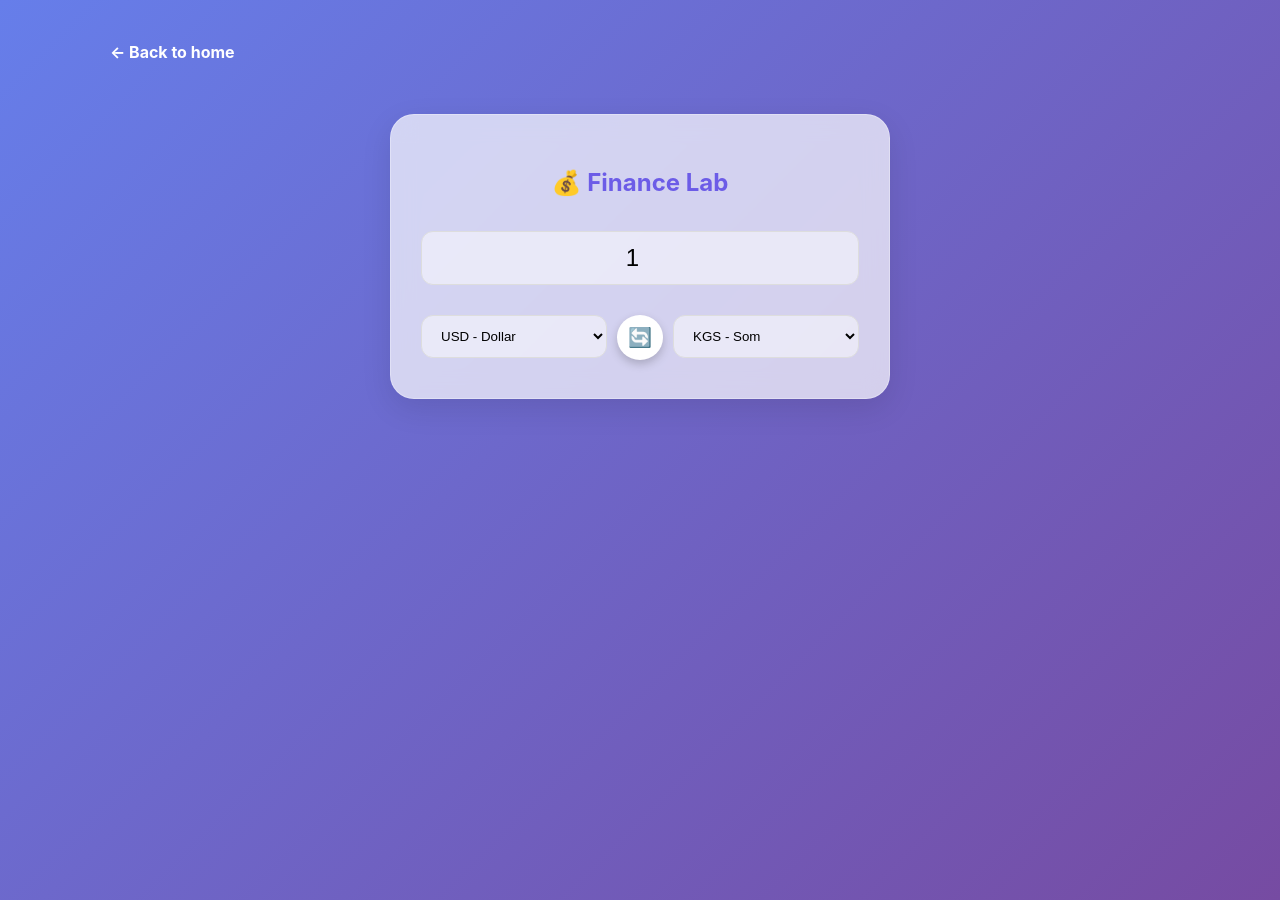
CurrencyConverter Component › updates the converted amount when the input changes
The image size is (1280, 900).
Replace the text in the number field with "10" at x=640, y=258, box [421,231,859,285]
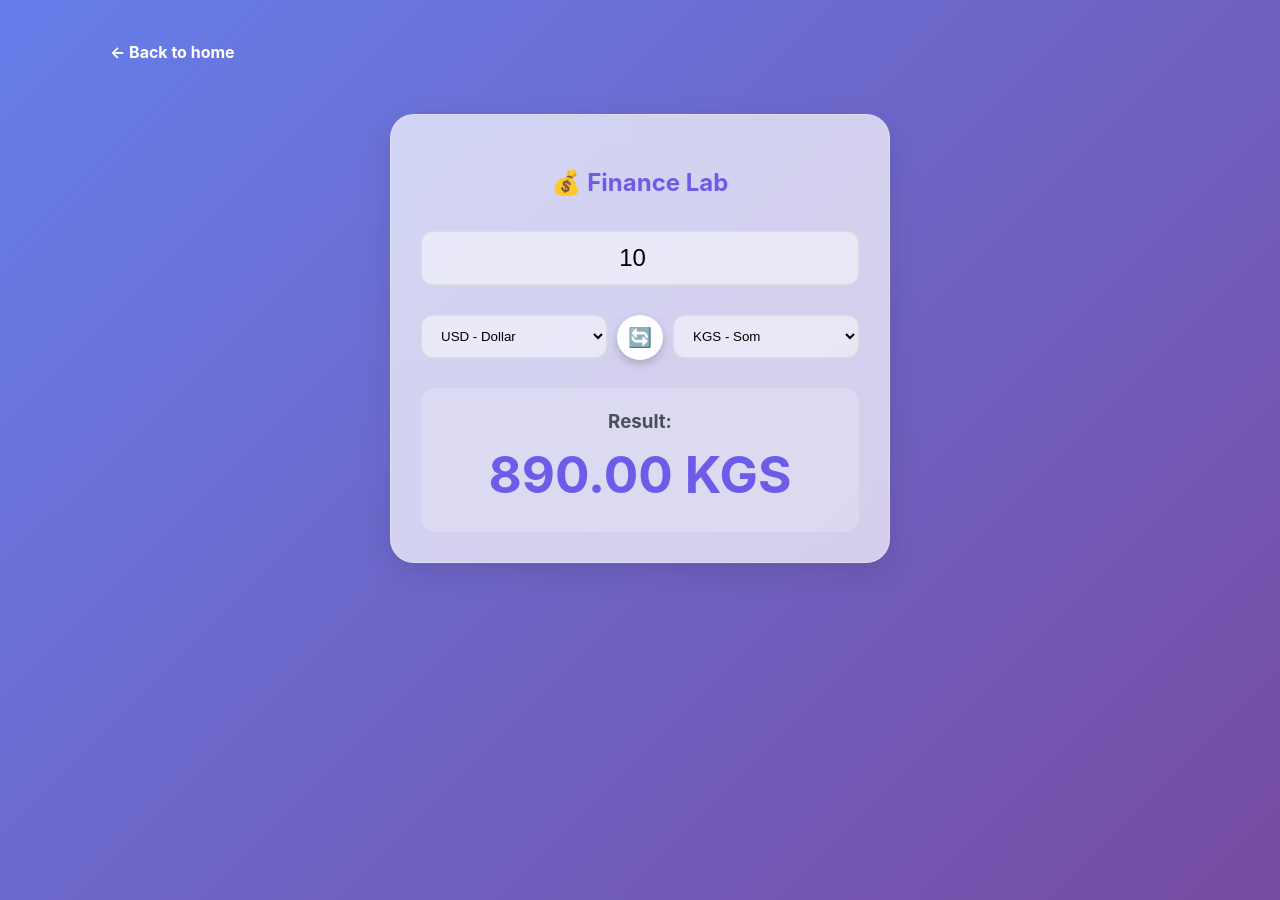
Now the heading "890.00 KGS" is shown, box [488,443,792,505]
